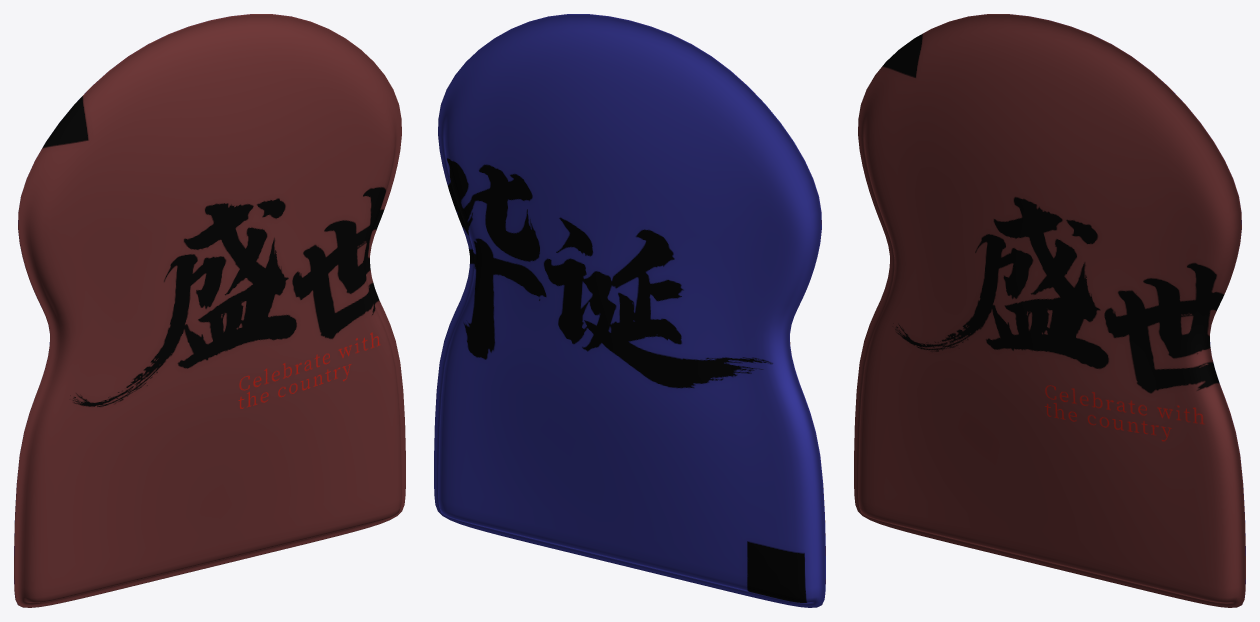
3 renders of one model, left to right at view 1: azimuth 30°, elevation 25°; view 2: azimuth 150°, elevation 25°; view 3: azimuth 330°, elevation 25°, orthographic.
Parts seen in each view (by area): view 1: 贴图; view 2: 贴图; view 3: 贴图.
Boxes of the visible parts, box(x1,y1,x2,y2) form: 贴图: box(14, 14, 405, 607); 贴图: box(434, 14, 825, 607); 贴图: box(854, 14, 1245, 607).
Size of the model in its own units: 146 by 194 by 22.47.
1 material, 1 textured.
